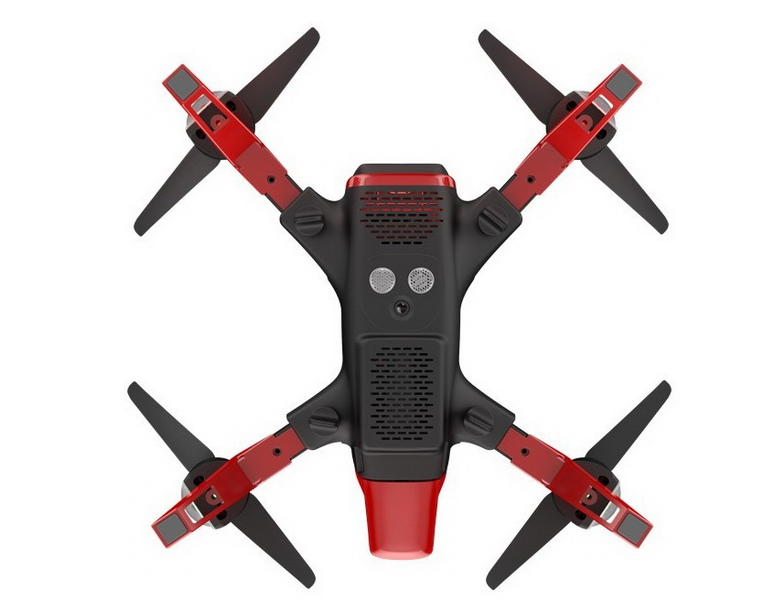drone: (128, 26, 674, 594)
